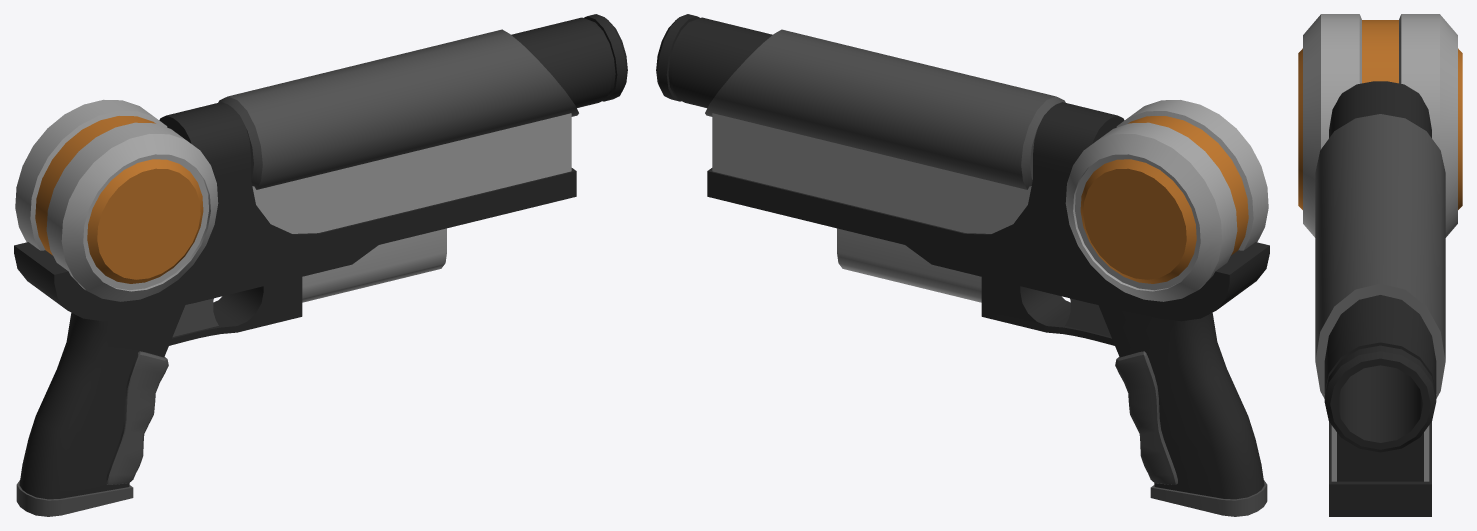
Rendered from Pistol_1.glb.
3 renders of one model, left to right at view 1: azimuth 30°, elevation 25°; view 2: azimuth 150°, elevation 25°; view 3: azimuth 270°, elevation 25°, orthographic. The views are drawn at different scales.
Visible parts, largest first — view 1: Pistol_1; view 2: Pistol_1; view 3: Pistol_1.
Part boxes in pixels (x1=…): Pistol_1: x1=14, y1=14, x2=627, y2=516; Pistol_1: x1=656, y1=14, x2=1269, y2=516; Pistol_1: x1=1298, y1=14, x2=1462, y2=516.
Bounding box in the file's own units: 0.9344 × 0.5605 × 0.1782.
